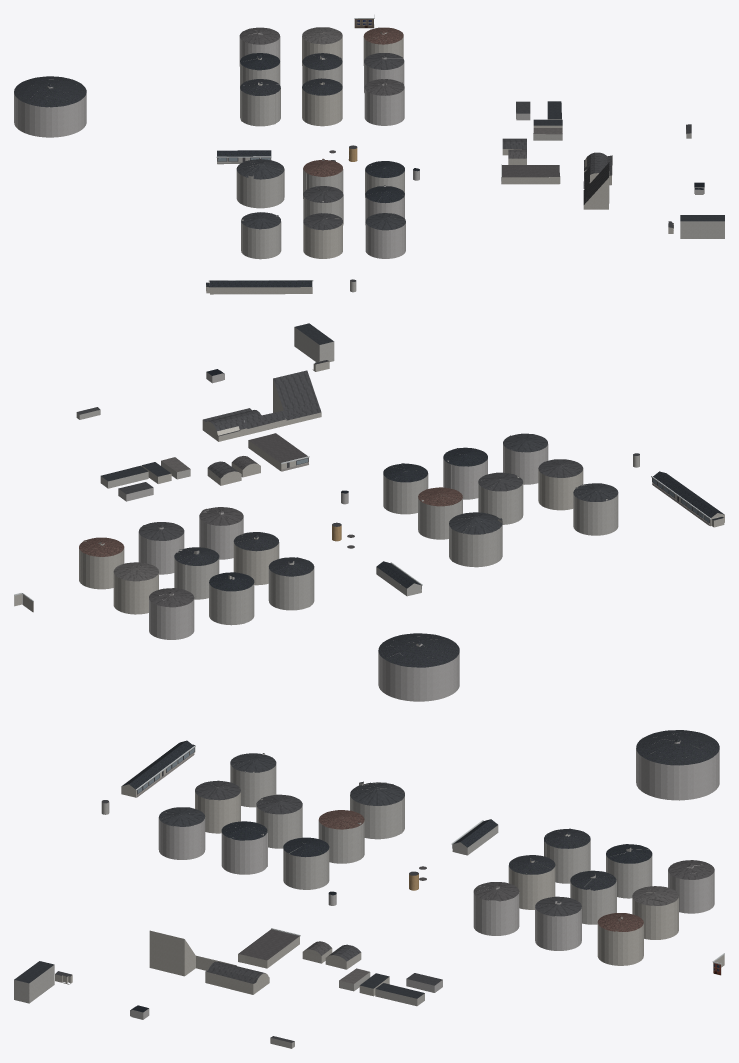
The picture shows the model from 3 angles, top to bottom: view 1: azimuth 30°, elevation 25°; view 2: azimuth 150°, elevation 25°; view 3: azimuth 270°, elevation 25°; orthographic projection. The views are drawn at different scales.
Visible parts, largest first — view 1: bldg_6000064359, bldg_6000064359_roof, bldg_6000064370, bldg_6000064376, bldg_6000064382, bldg_6000064386, bldg_6000064363, bldg_6000064373, bldg_6000064369, bldg_6008399886_roof, bldg_6003919156_roof, bldg_6003919156 (+31 smaller); view 2: bldg_6000064359, bldg_6008399886_roof, bldg_6000064359_roof, bldg_6000064370, bldg_6000064376, bldg_6000064380, bldg_6000064363, bldg_6000064383, bldg_6000064372, bldg_6000064387, bldg_6000064389, bldg_6000064369 (+29 smaller); view 3: bldg_6000064359, bldg_6008399886, bldg_6000064359_roof, bldg_6000064386, bldg_6000064388, bldg_6000064375, bldg_6000064389, bldg_6000064373, bldg_6000064370, bldg_6000064378, bldg_6000064374, bldg_6000064383 (+31 smaller).
Boxes of the visible parts, left/top/right/bottom form: bldg_6000064359: left=14, top=79, right=86, bottom=137; bldg_6000064359_roof: left=14, top=76, right=86, bottom=107; bldg_6000064370: left=236, top=160, right=284, bottom=208; bldg_6000064376: left=240, top=82, right=280, bottom=126; bldg_6000064382: left=302, top=82, right=342, bottom=126; bldg_6000064386: left=364, top=79, right=404, bottom=125; bldg_6000064363: left=241, top=216, right=281, bottom=259; bldg_6000064373: left=365, top=214, right=405, bottom=258; bldg_6000064369: left=303, top=218, right=342, bottom=258; bldg_6008399886_roof: left=583, top=152, right=612, bottom=204; bldg_6003919156_roof: left=206, top=280, right=312, bottom=287; bldg_6003919156: left=206, top=282, right=312, bottom=294; bldg_6000064359: left=378, top=636, right=459, bottom=701; bldg_6008399886_roof: left=203, top=370, right=321, bottom=436; bldg_6000064359_roof: left=378, top=633, right=459, bottom=667; bldg_6000064370: left=449, top=517, right=502, bottom=567; bldg_6000064376: left=268, top=561, right=314, bottom=610; bldg_6000064380: left=209, top=575, right=254, bottom=625; bldg_6000064363: left=573, top=485, right=618, bottom=535; bldg_6000064383: left=149, top=593, right=194, bottom=639; bldg_6000064372: left=478, top=473, right=523, bottom=524; bldg_6000064387: left=113, top=566, right=158, bottom=614; bldg_6000064389: left=79, top=541, right=124, bottom=589; bldg_6000064369: left=538, top=469, right=583, bottom=510; bldg_6000064359: left=636, top=733, right=719, bottom=800; bldg_6008399886: left=149, top=930, right=269, bottom=994; bldg_6000064359_roof: left=636, top=730, right=719, bottom=765; bldg_6000064386: left=473, top=886, right=519, bottom=935; bldg_6000064388: left=535, top=901, right=581, bottom=950; bldg_6000064375: left=221, top=826, right=267, bottom=874; bldg_6000064389: left=597, top=916, right=643, bottom=965; bldg_6000064373: left=158, top=812, right=205, bottom=859; bldg_6000064370: left=350, top=782, right=404, bottom=839; bldg_6000064378: left=283, top=843, right=329, bottom=889; bldg_6000064374: left=318, top=815, right=364, bottom=863; bldg_6000064383: left=668, top=864, right=714, bottom=913.
Size of the model in its own units: 254 by 17.14 by 256.
23 materials, 17 textured.
